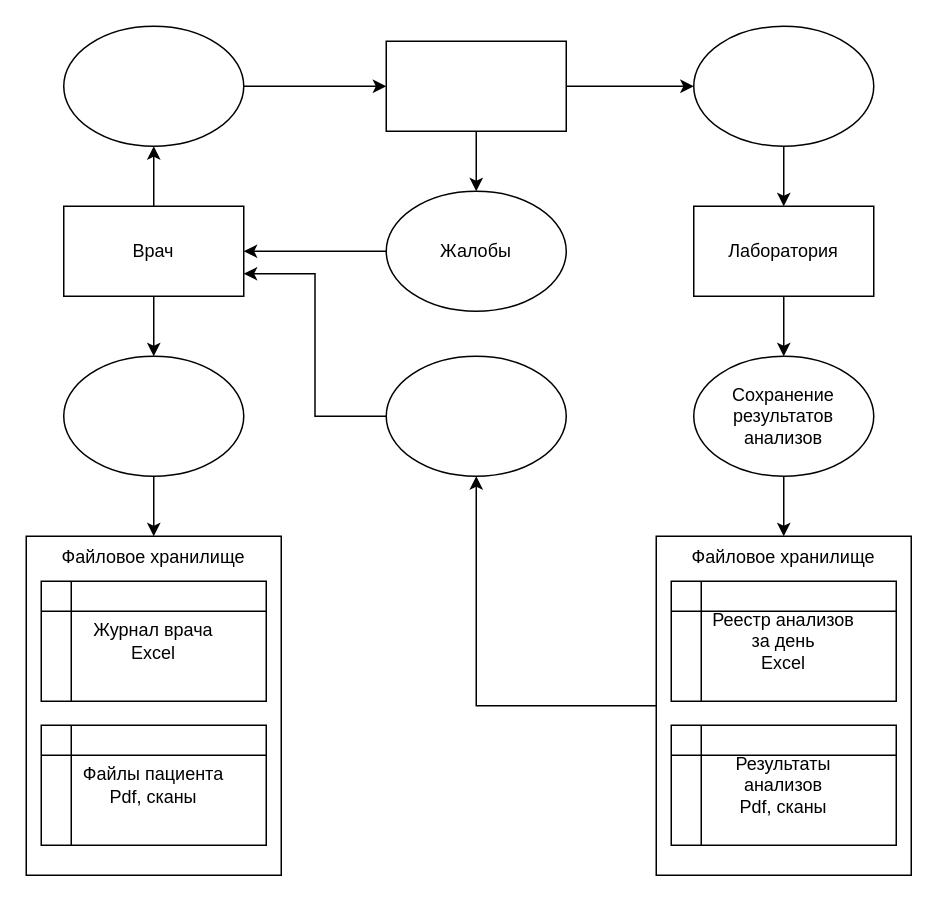
Some shapes in this 938 by 902 pixel diagram are drawn without their labels. The centre of each missing label's shape, as x and y in pixels:
"Выдача заключения, рецепта" goes at pixel 153 85.
"Материалы на анализы" goes at pixel 783 85.
"Пациент" goes at pixel 475 85.
"Просмотр результатов анализов" goes at pixel 475 415.
"Сохранение анамнеза, диагноза, назначения" goes at pixel 153 415.
